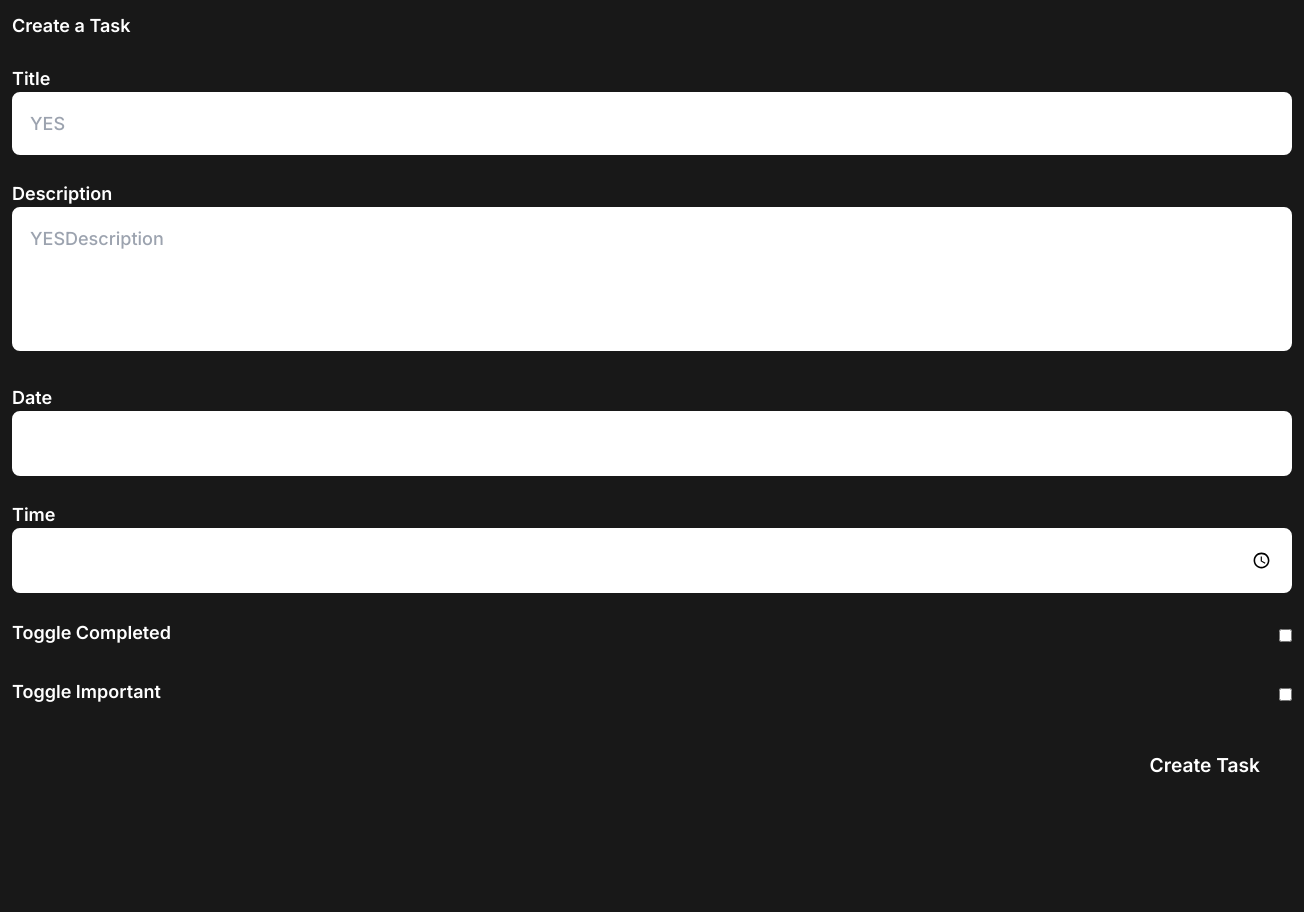
CreateTask Component Validation Tests › displays error if title is less than 3 characters
Type "ab" into the field labelled "Title" at [652, 123], box [12,92,1292,155]
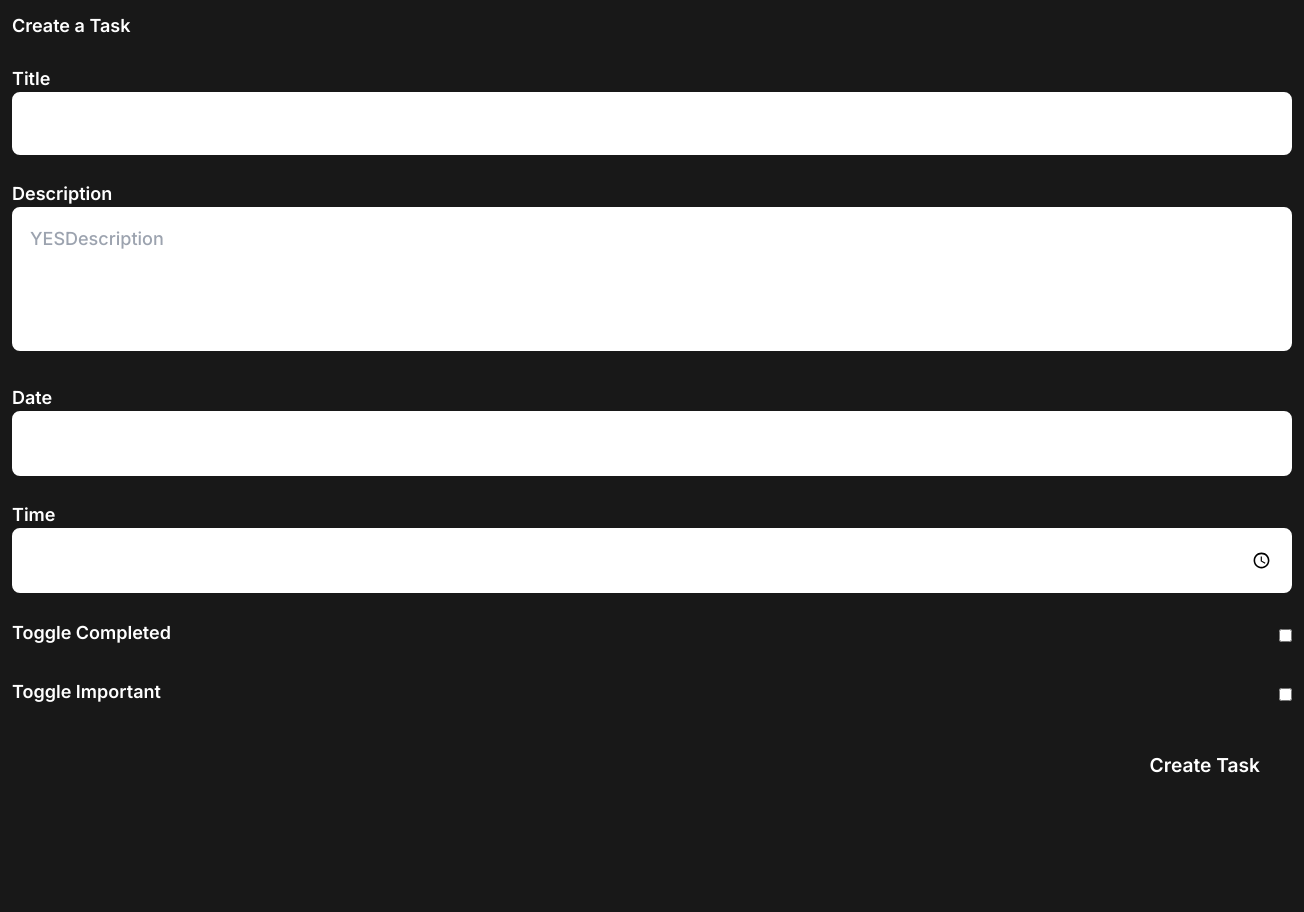
Click the button "Create Task" at [1197, 766], box [1102,737,1292,794]
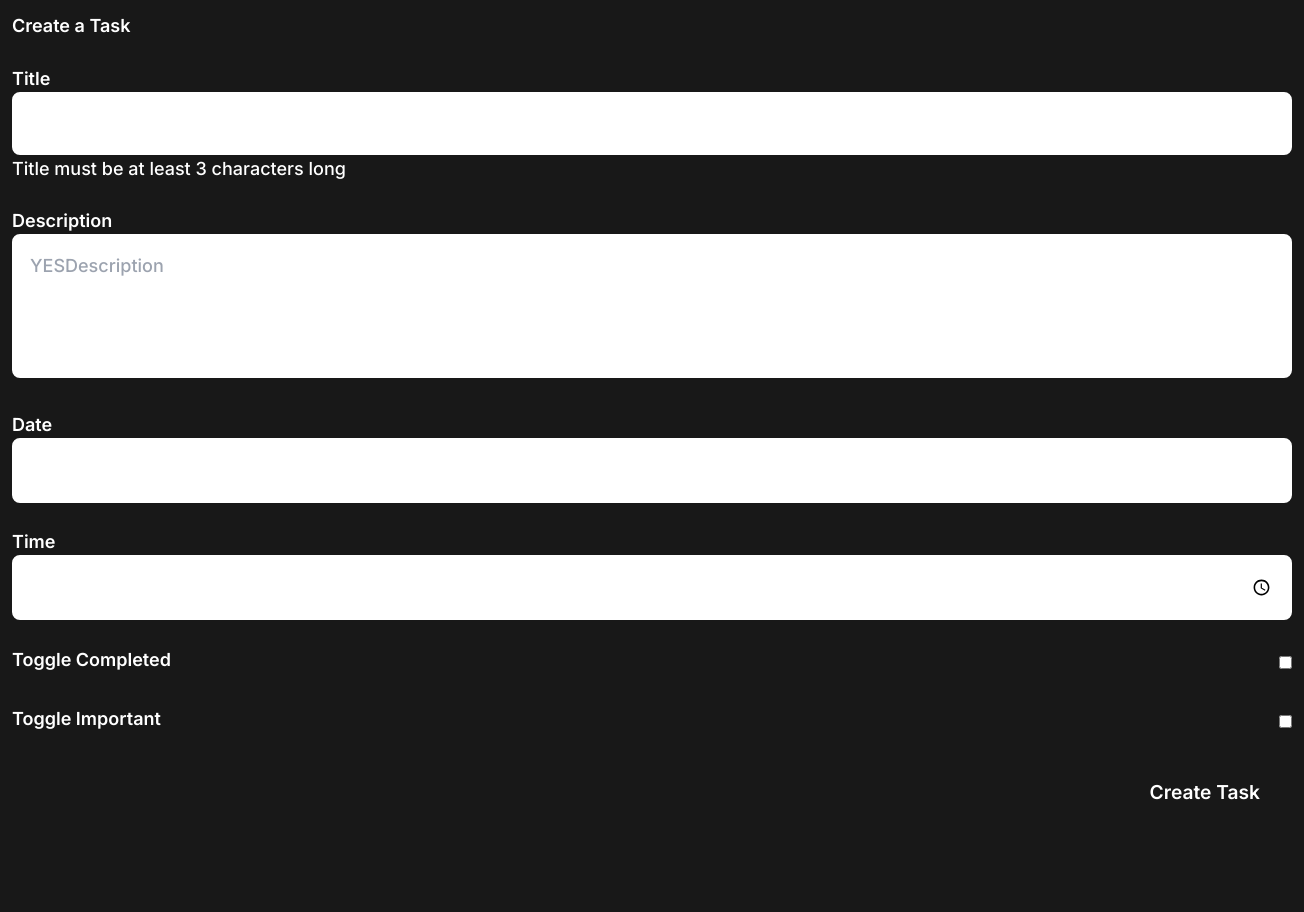
Expected: the text "Title must be at least 3 characters long" is shown, [12,158,346,179]
